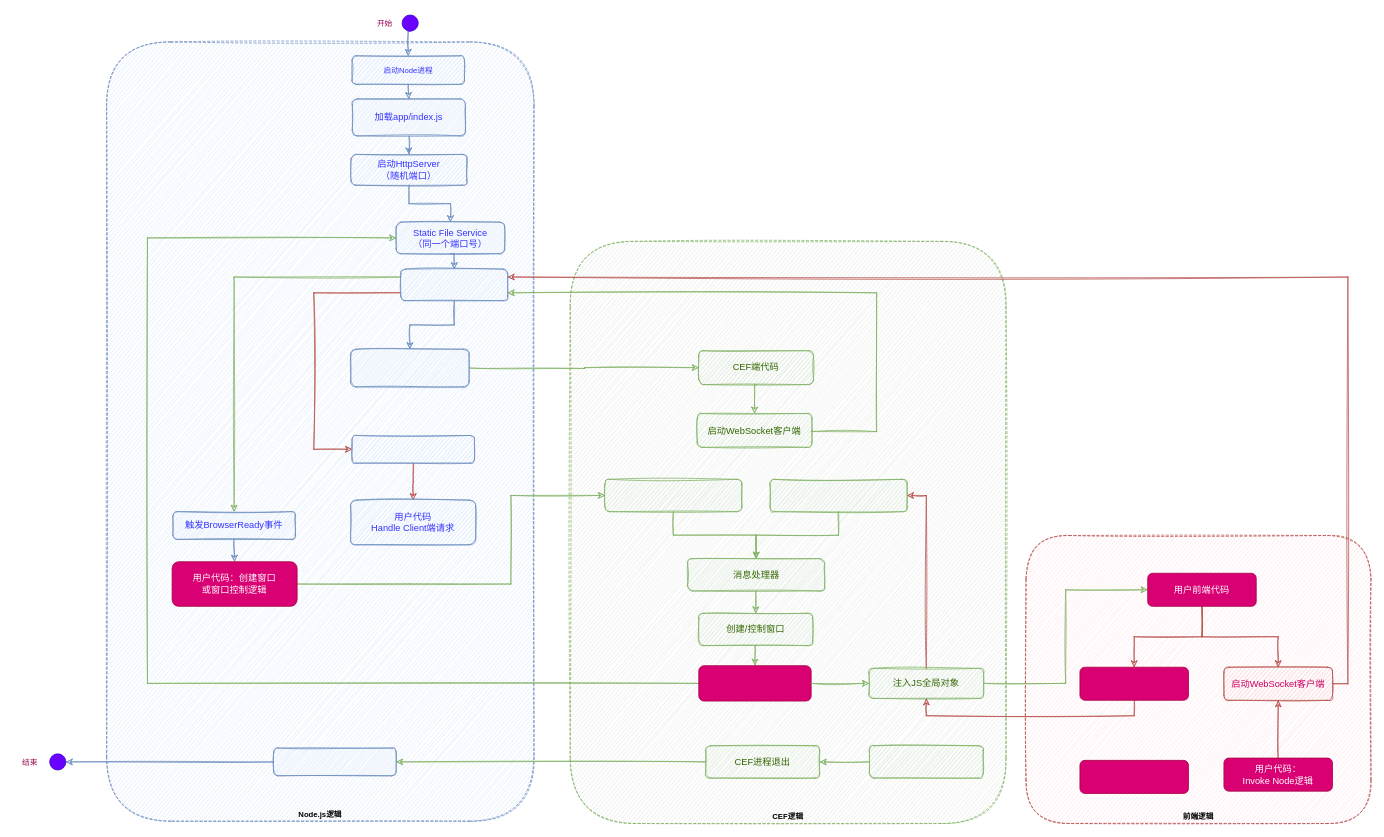
This 1384x837 diagram has some shape labels left out. Each missing label, with the box of its shape:
WebSocket Service （同一个端口号）: (400, 268, 508, 301)
WebSocket消息路由: (604, 479, 742, 512)
加载静态文件 （或用户指定的url）: (698, 665, 811, 701)
启动CEF进程 （命令行传递端口号）: (350, 348, 469, 387)
所有窗口关闭: (869, 745, 983, 778)
渲染进程消息路由: (769, 479, 907, 512)
用户代码： 其他静态资源: (1079, 760, 1188, 793)
用户代码：控制窗口: (1079, 666, 1188, 700)
触发ClietnReady事件: (351, 435, 474, 463)
退出Node.js进程: (273, 747, 396, 776)
